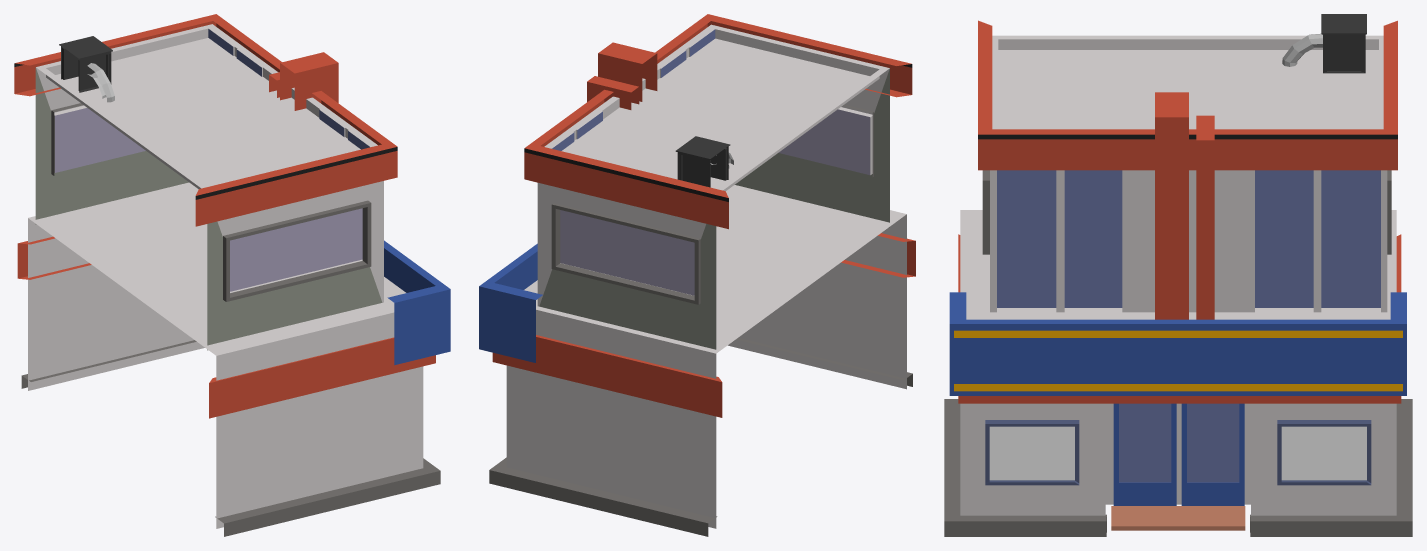
The model's file is House_18.fbx.
3 renders of one model, left to right at view 1: azimuth 30°, elevation 25°; view 2: azimuth 150°, elevation 25°; view 3: azimuth 270°, elevation 25°, orthographic. The views are drawn at different scales.
Parts seen in each view (by area): view 1: Cube, Cube.001, Cube.013, Cube.005, Cube.002, Cube.012, Cube.015, Cube.003, Cube.006, Cube.011; view 2: Cube.001, Cube, Cube.013, Cube.005, Cube.002, Cube.011, Cube.014, Cube.003, Cube.006, Cube.004, Cube.012; view 3: Cube.001, Cube, Cube.002, Cube.013, Cube.007, Cube.003, Cube.008, Cube.009, Cube.012, Cube.011, Cube.005, Cube.004 (+6 smaller).
Boxes of the visible parts, x1,y1,x2,y2 form: Cube: (28,182,423,528); Cube.001: (35,24,383,350); Cube.013: (14,14,397,226); Cube.005: (17,236,435,418); Cube.002: (384,240,450,365); Cube.012: (215,458,440,536); Cube.015: (223,200,371,301); Cube.003: (280,52,338,110); Cube.006: (59,36,112,92); Cube.011: (21,340,196,388); Cube.001: (537,24,889,349); Cube: (506,185,906,528); Cube.013: (524,14,912,229); Cube.005: (492,233,915,417); Cube.002: (479,243,542,362); Cube.011: (489,457,717,536); Cube.014: (551,203,700,304); Cube.003: (598,42,657,101); Cube.006: (675,136,730,187); Cube.004: (587,76,639,109); Cube.012: (736,337,912,386); Cube.001: (990,35,1387,312); Cube: (960,210,1396,515); Cube.002: (949,292,1406,395); Cube.013: (978,20,1397,170); Cube.007: (985,420,1371,485); Cube.003: (1155,92,1188,319); Cube.008: (1181,403,1244,505); Cube.009: (1113,403,1176,505); Cube.012: (944,399,1106,536); Cube.011: (1250,399,1412,536); Cube.005: (958,234,1401,403); Cube.004: (1196,115,1214,319).
Bounding box in the file's own units: 296 × 413 × 424.
